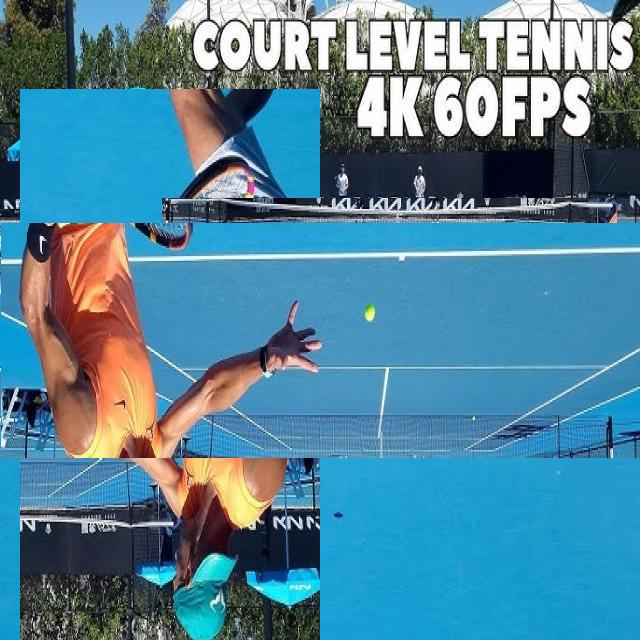court: (1, 223, 640, 460)
net: (162, 198, 617, 268)
player: (20, 89, 320, 640)
